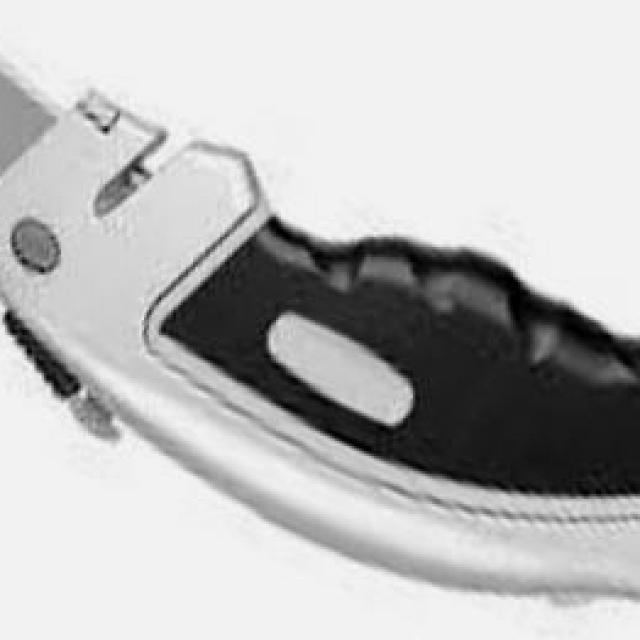estilete: (0, 63, 640, 596)
